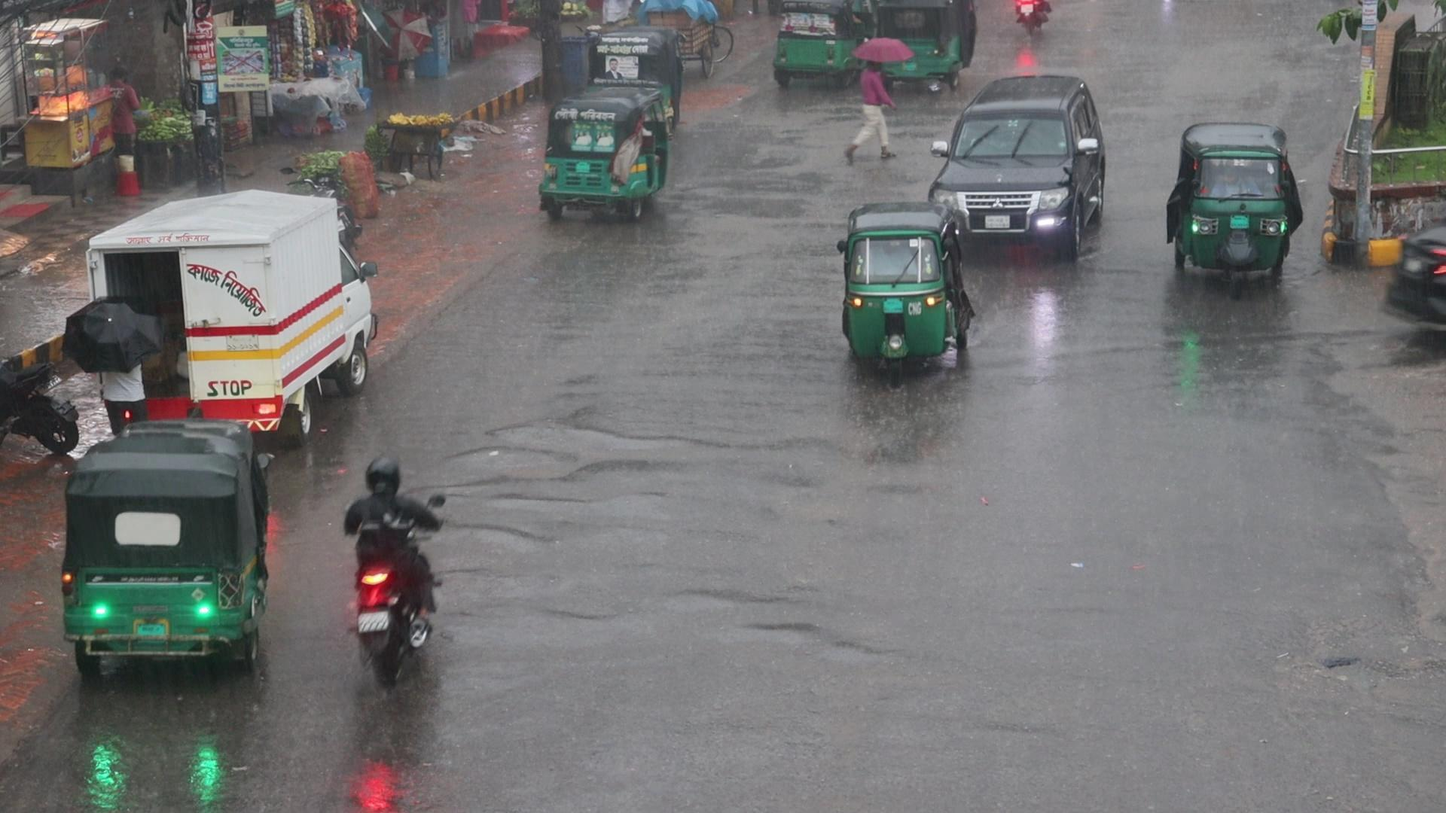Bike: (346, 454, 442, 687)
Car: (930, 72, 1104, 246)
